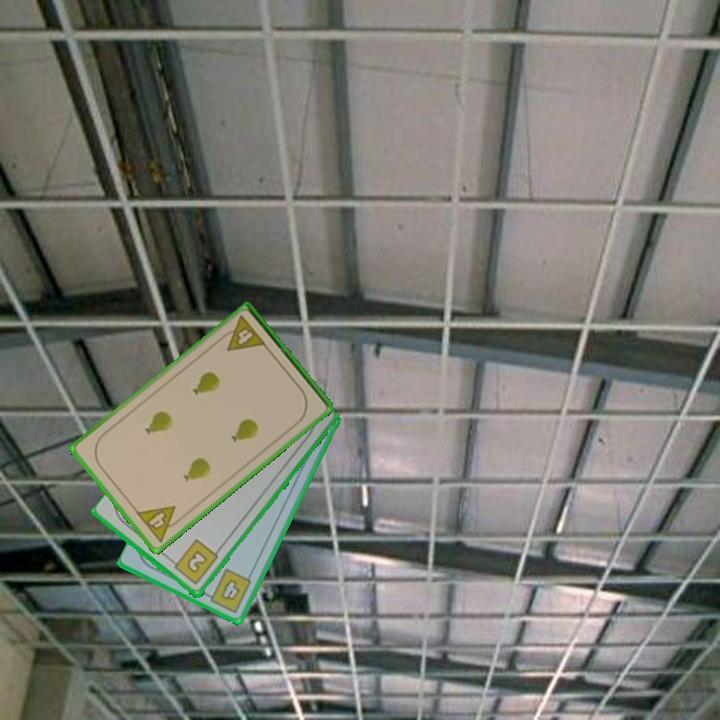2b: (167, 536, 221, 588)
4b: (201, 565, 255, 616)
4p: (132, 502, 187, 545), (216, 312, 269, 355)
